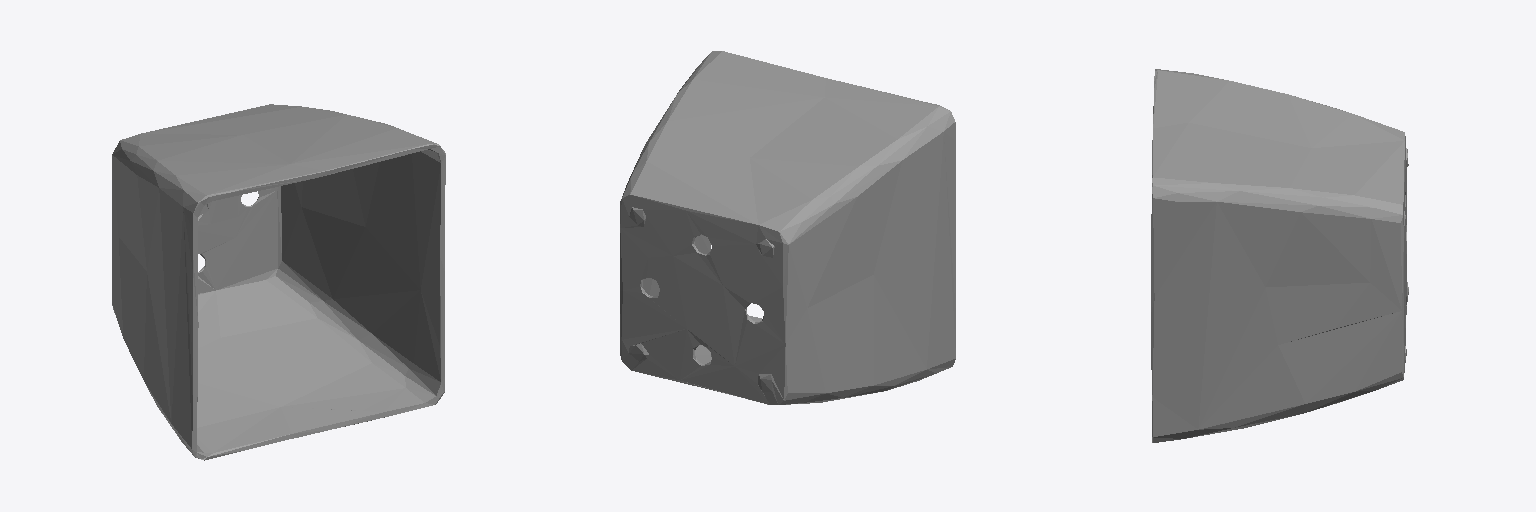
The model's file is model_2eZY2JqYPQE.obj.
The picture shows the model from 3 angles: view 1: azimuth 30°, elevation 25°; view 2: azimuth 150°, elevation 25°; view 3: azimuth 270°, elevation 25°; orthographic projection.
Parts seen in each view (by area): view 1: model; view 2: model; view 3: model.
Part boxes in pixels (x1,y1,x2,y2): model: (112,104,445,460); model: (620,51,955,404); model: (1151,69,1408,442).
Size of the model in its own units: 0.1901 by 0.1904 by 0.1688.